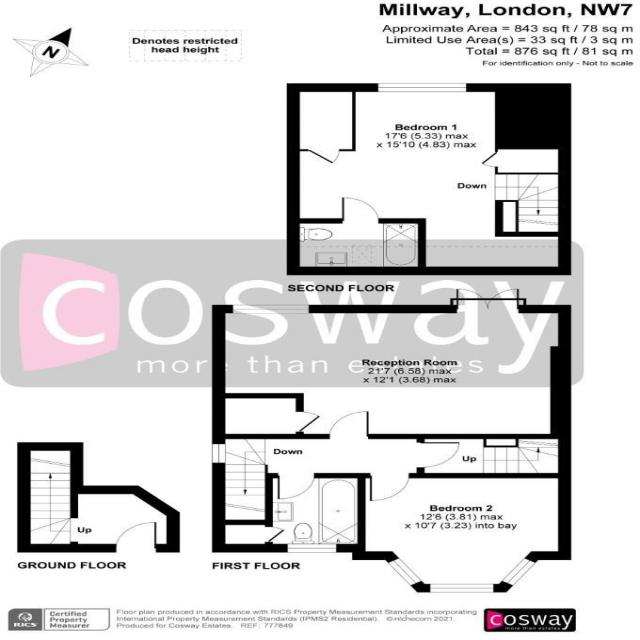DOOR: (113, 520, 159, 556), (414, 440, 463, 470), (367, 472, 412, 504), (327, 410, 371, 441), (275, 471, 318, 501), (340, 196, 381, 225)
ROOM: (285, 82, 572, 277), (210, 287, 572, 440), (351, 473, 573, 593)
WINDOW: (498, 555, 538, 587), (385, 556, 424, 588), (377, 82, 467, 93), (229, 304, 312, 315), (427, 583, 496, 594), (285, 543, 339, 554), (210, 442, 227, 465)
